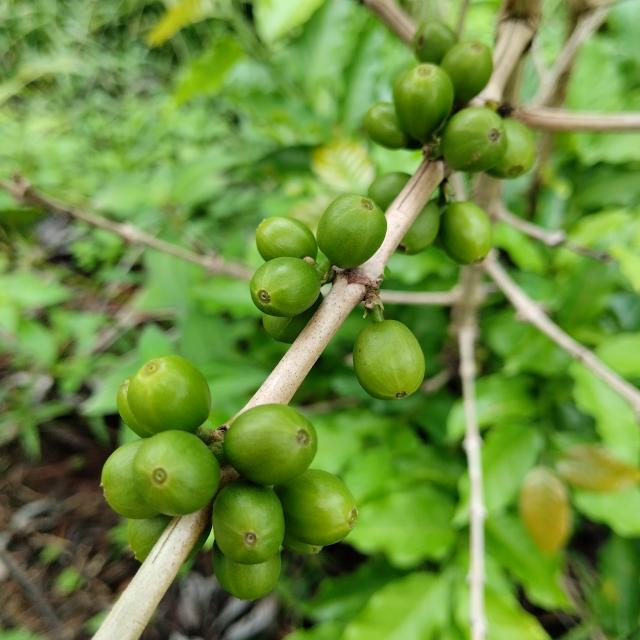green: (223, 404, 318, 486), (132, 430, 220, 517), (127, 355, 211, 435), (274, 470, 358, 546), (212, 480, 285, 566), (353, 320, 425, 401), (317, 193, 387, 269), (394, 62, 455, 143), (100, 439, 159, 520), (441, 106, 508, 172), (250, 257, 321, 317), (212, 543, 281, 601), (440, 201, 493, 265), (441, 40, 494, 104), (262, 293, 324, 344), (487, 118, 536, 178), (256, 216, 318, 261), (396, 201, 440, 255), (364, 101, 411, 148), (126, 515, 171, 563), (116, 376, 150, 439), (368, 171, 411, 211), (282, 535, 324, 556)
